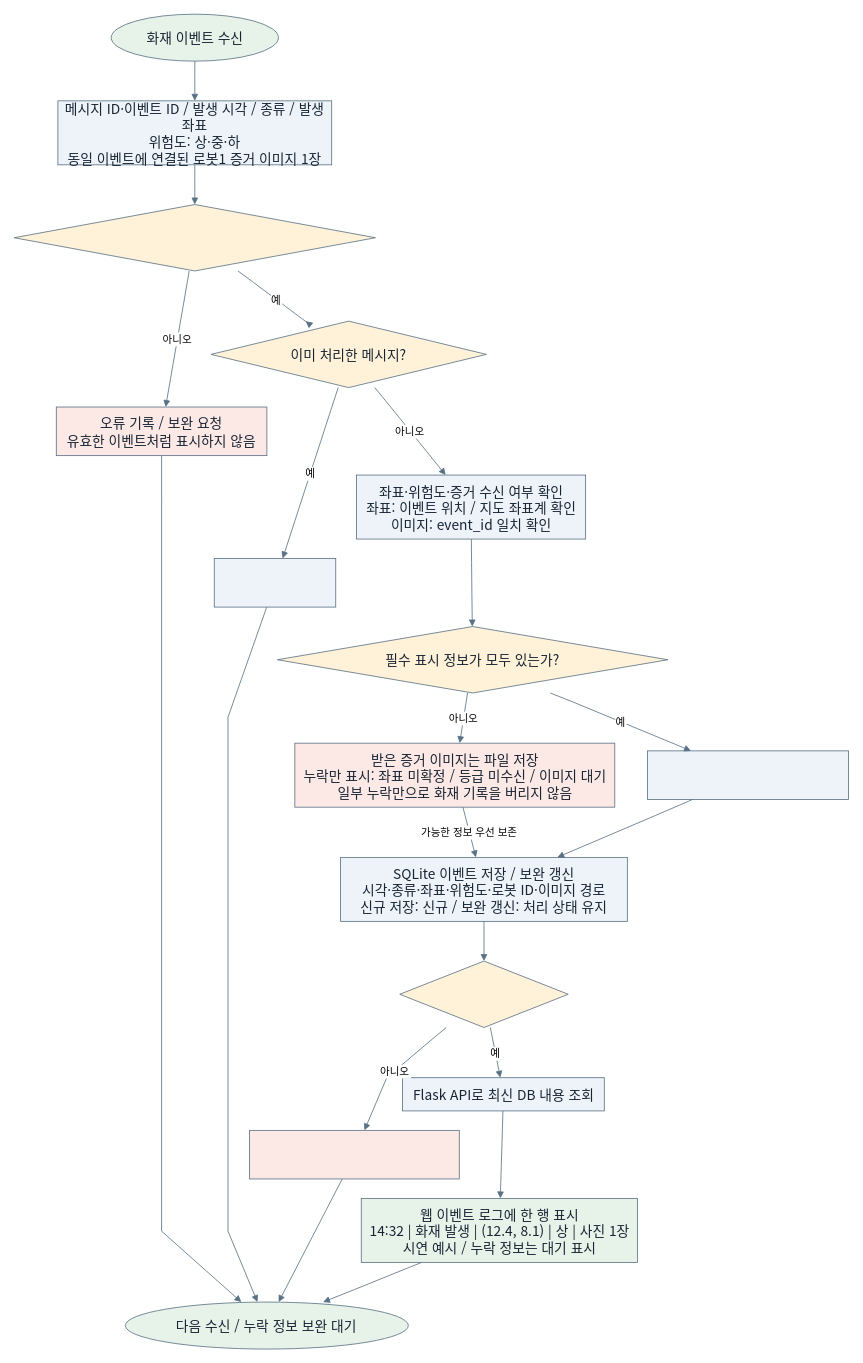
This 863x1363 diagram has some shape labels left out. Each missing label, with the centre of its shape:
"ID·출처·메시지 형식 유효?" belongs at (x=194, y=237).
"실패 기록 / 재처리 대상으로 보관 저장 완료로 표시하지 않음" belongs at (x=354, y=1154).
"저장 성공?" belongs at (x=483, y=993).
"중복 행 생성 생략 다음 메시지 대기" belongs at (x=274, y=582).
"증거 이미지 파일 저장 기존 실시간 영상과 별개로 보존" belongs at (x=747, y=774).
